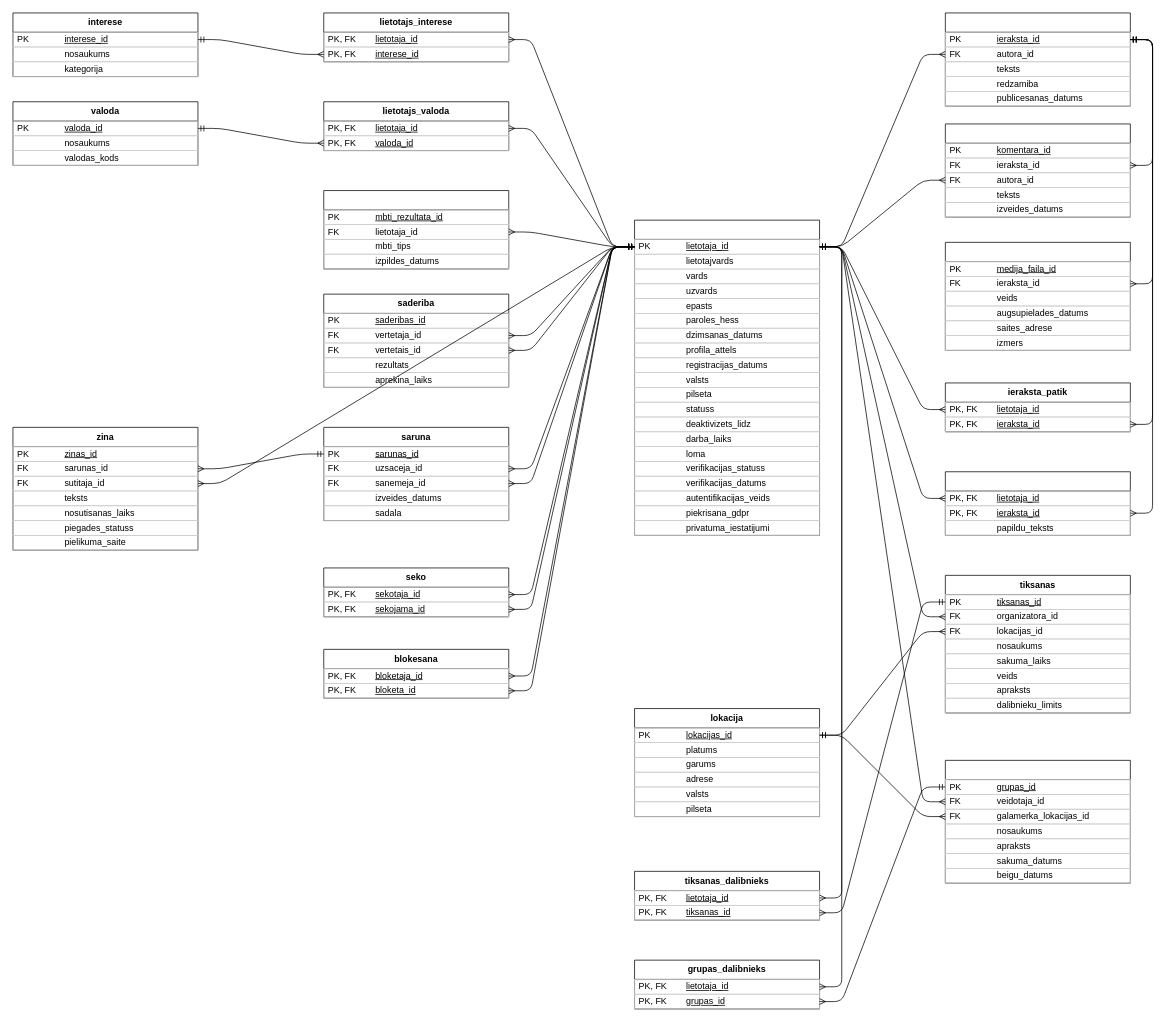
Some shapes in this 1172 by 1022 pixel diagram are drawn without their labels. The shapes that lost their labels are listed below. From the top down, each one's box as (x1, y1, x2, y2) in pixels, then its label:
(945, 12, 1130, 106): ieraksts
(945, 123, 1130, 217): komentars
(323, 190, 509, 269): mbti_rezultats
(945, 242, 1130, 350): medija_fails
(634, 219, 820, 535): lietotajs
(945, 471, 1130, 535): kopigosana
(945, 760, 1130, 883): celojuma_grupa
